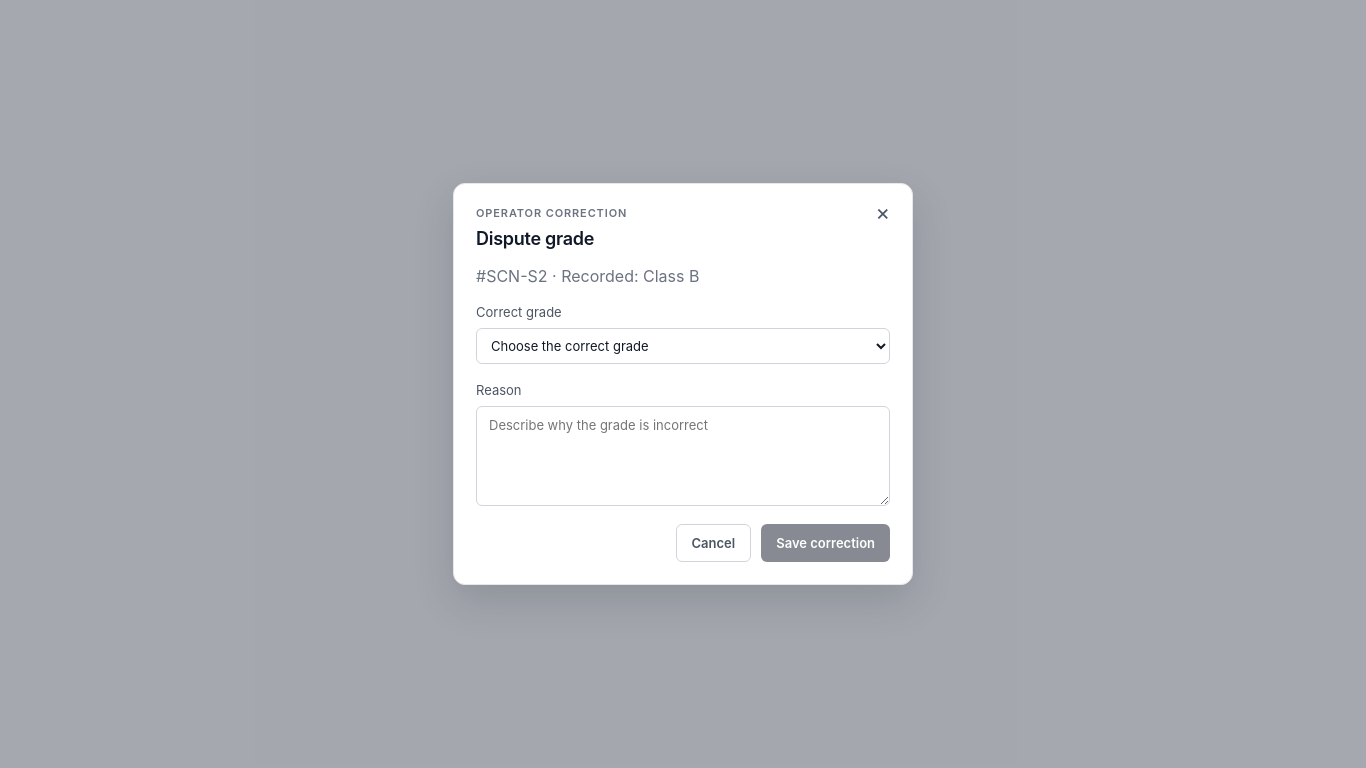
Test: DisputeModal › starts with no grade chosen, refuses the recorded grade and asks for the finger length
Check: the button "Save correction" is disabled, box [761,524,890,562]
Select "Class B" in the dropdown labelled "Correct grade": (683, 346) [476,328,890,364]
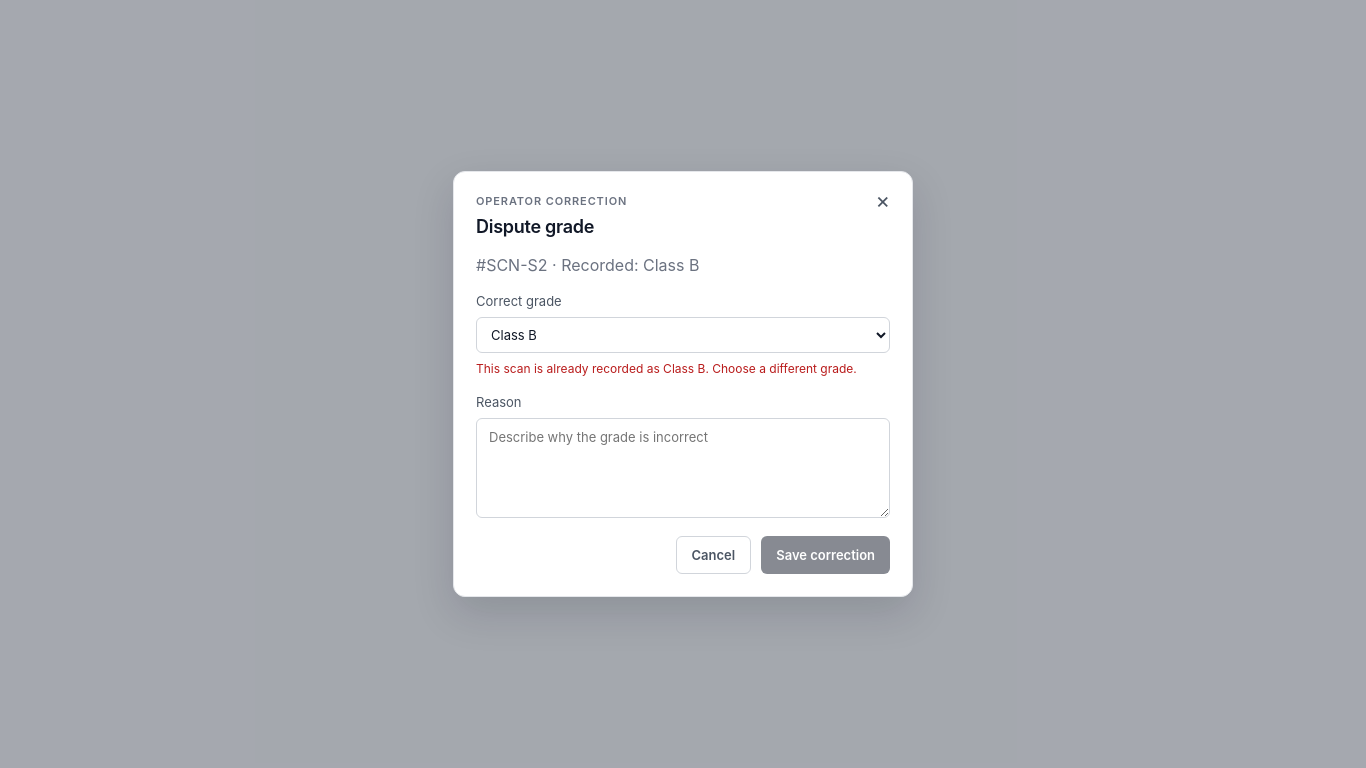
Check: the button "Save correction" is disabled, box [761,536,890,574]
Check: the text with class "form-error" shows "already recorded as Class B", box [476,361,857,376]
Select "Class A" in the dropdown labelled "Correct grade": (683, 335) [476,317,890,353]
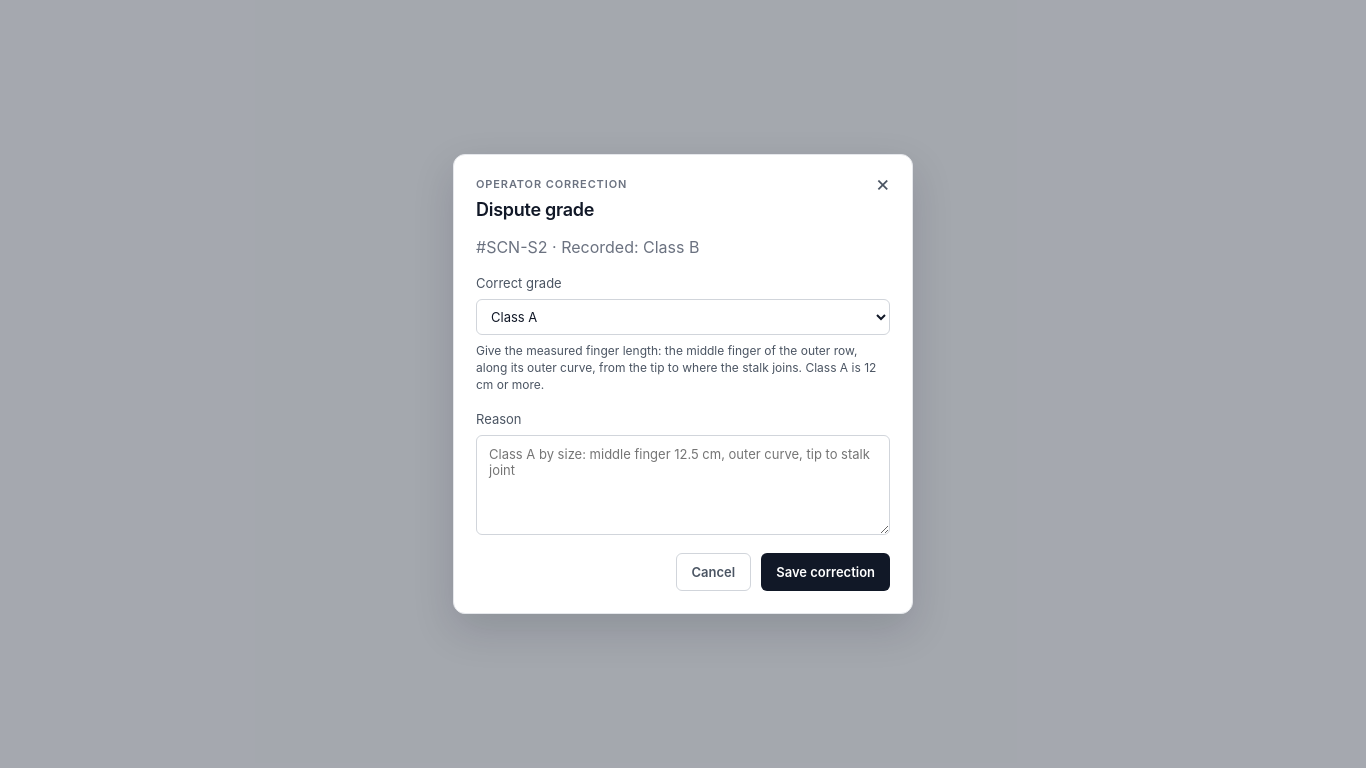
Check: the text with class "form-hint" shows "12 cm or more", box [476,343,876,392]
Check: the button "Save correction" is enabled, box [761,553,890,591]
